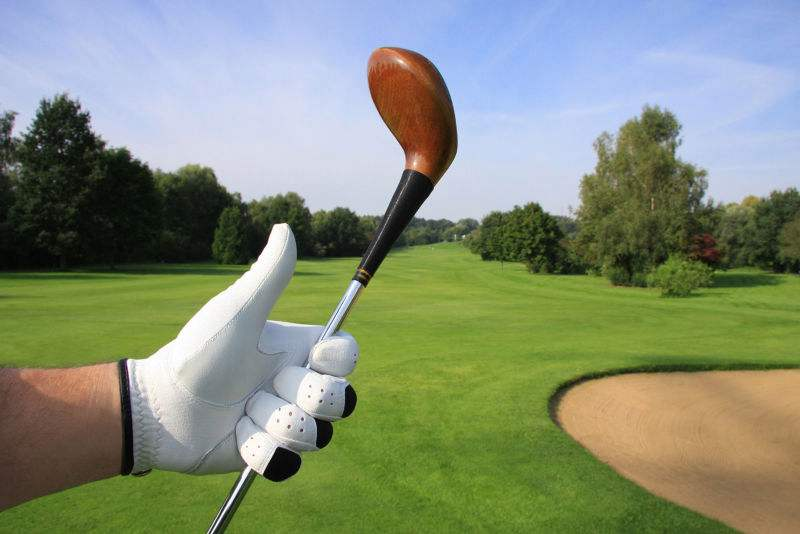no-phone: (111, 163, 433, 484)
